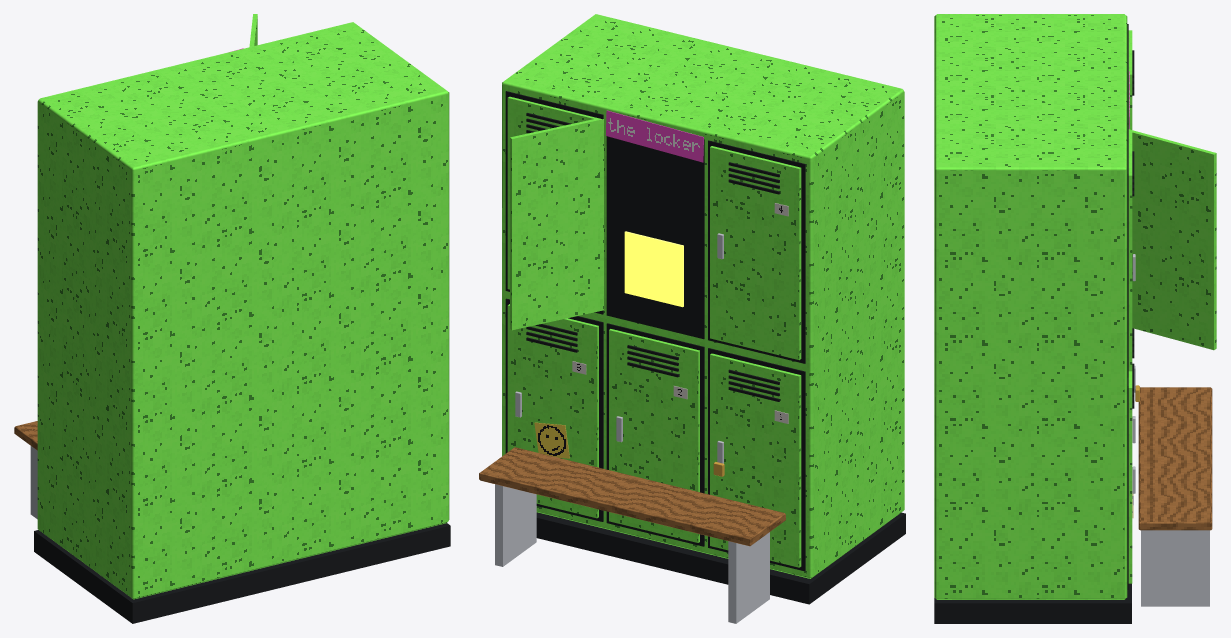
File: s_locker_bank.glb
The picture shows the model from 3 angles, left to right: view 1: azimuth 30°, elevation 25°; view 2: azimuth 150°, elevation 25°; view 3: azimuth 270°, elevation 25°; orthographic projection. The views are drawn at different scales.
Visible parts, largest first — view 1: s_locker_bank_mesh; view 2: s_locker_bank_mesh; view 3: s_locker_bank_mesh.
Boxes of the visible parts, bbox=[...] form: s_locker_bank_mesh: bbox=[14, 14, 450, 623]; s_locker_bank_mesh: bbox=[479, 14, 905, 623]; s_locker_bank_mesh: bbox=[934, 14, 1216, 623].
Size of what is drawn, in the model's own units: 1.6 by 2.19 by 1.23.
7 materials, 6 textured.
